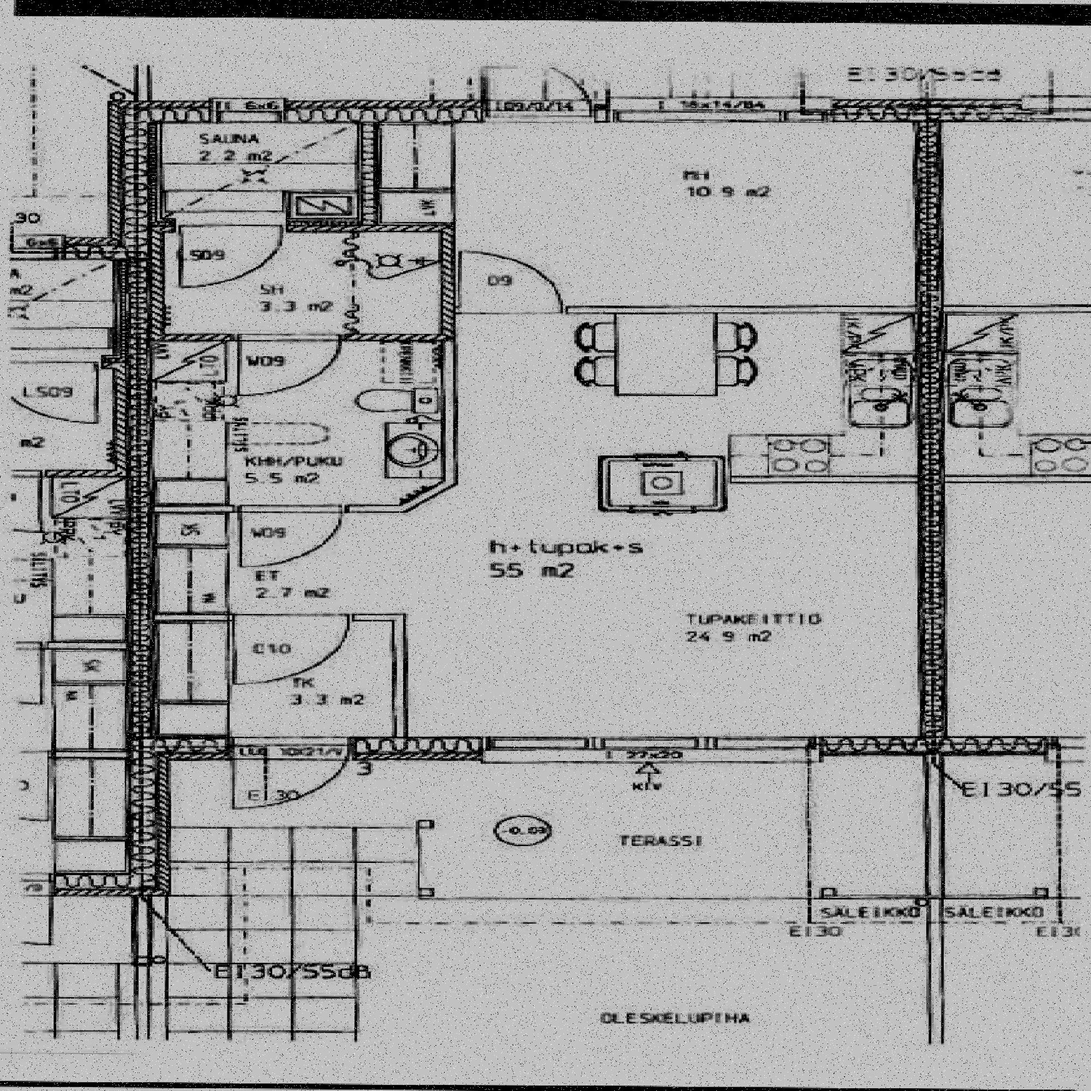wall: (123, 737, 942, 760), (126, 100, 942, 123), (916, 100, 942, 760), (123, 341, 155, 760), (123, 100, 166, 341), (123, 737, 170, 896), (442, 306, 941, 313), (442, 225, 455, 484), (124, 219, 376, 232), (358, 100, 376, 232), (124, 334, 456, 341), (392, 614, 406, 760), (123, 505, 406, 512), (124, 614, 406, 621), (400, 480, 456, 512), (730, 476, 941, 483), (376, 225, 456, 232)
